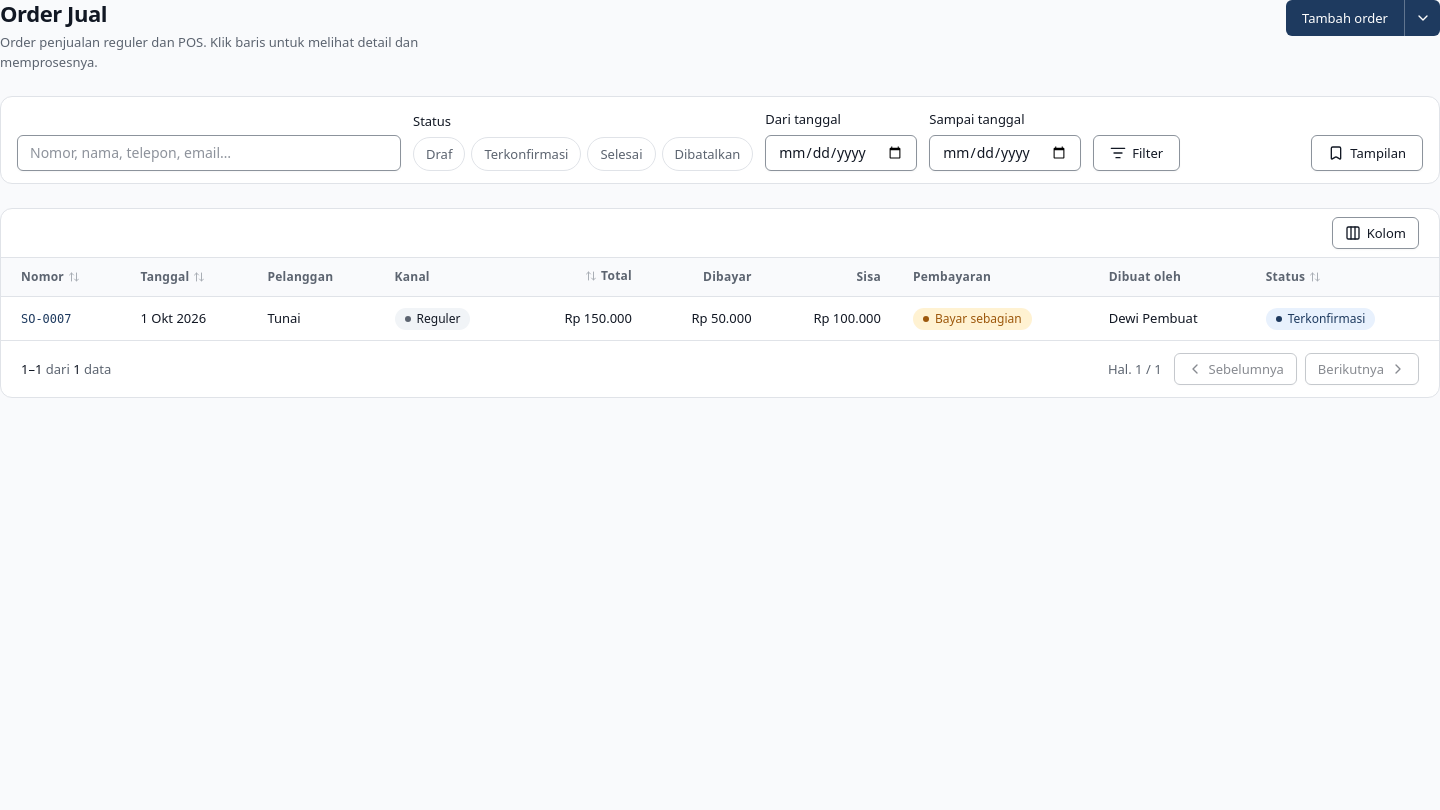
daftar order jual — SJ Langsung (ADR-0022 W-05) › tombol Tambah order bercabang: Order biasa / Dari surat jalan membuka pemilih
The width and height of the screenshot is (1440, 810).
Check: the text "SO-0007" is shown, box [21, 308, 71, 328]
Click the button named "Pilihan tambah order" at (1422, 18), box [1404, 0, 1439, 36]
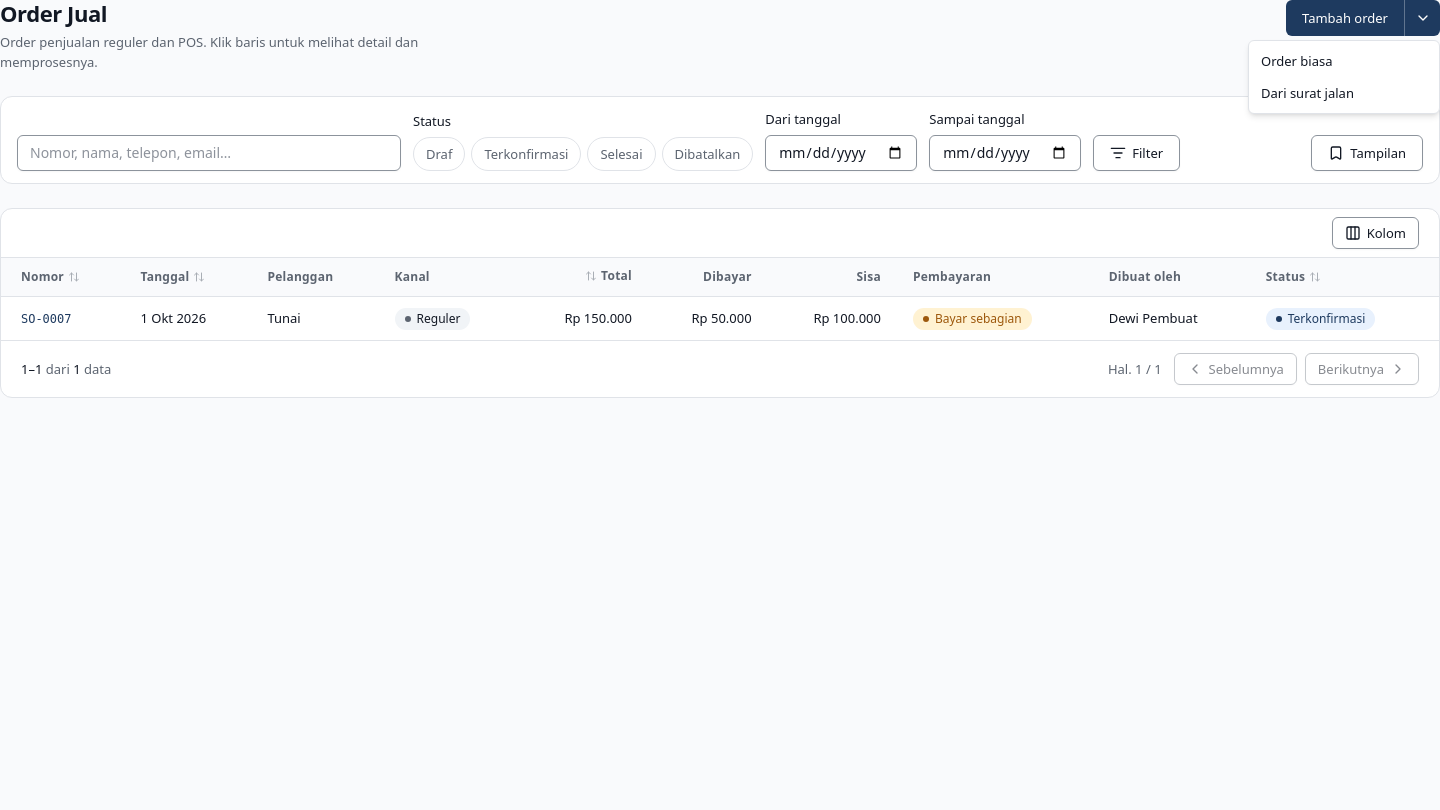
Check: the menu item "Order biasa" is shown, box [1261, 52, 1332, 70]
Click the menu item "Dari surat jalan" at (1308, 93), box [1261, 84, 1354, 102]
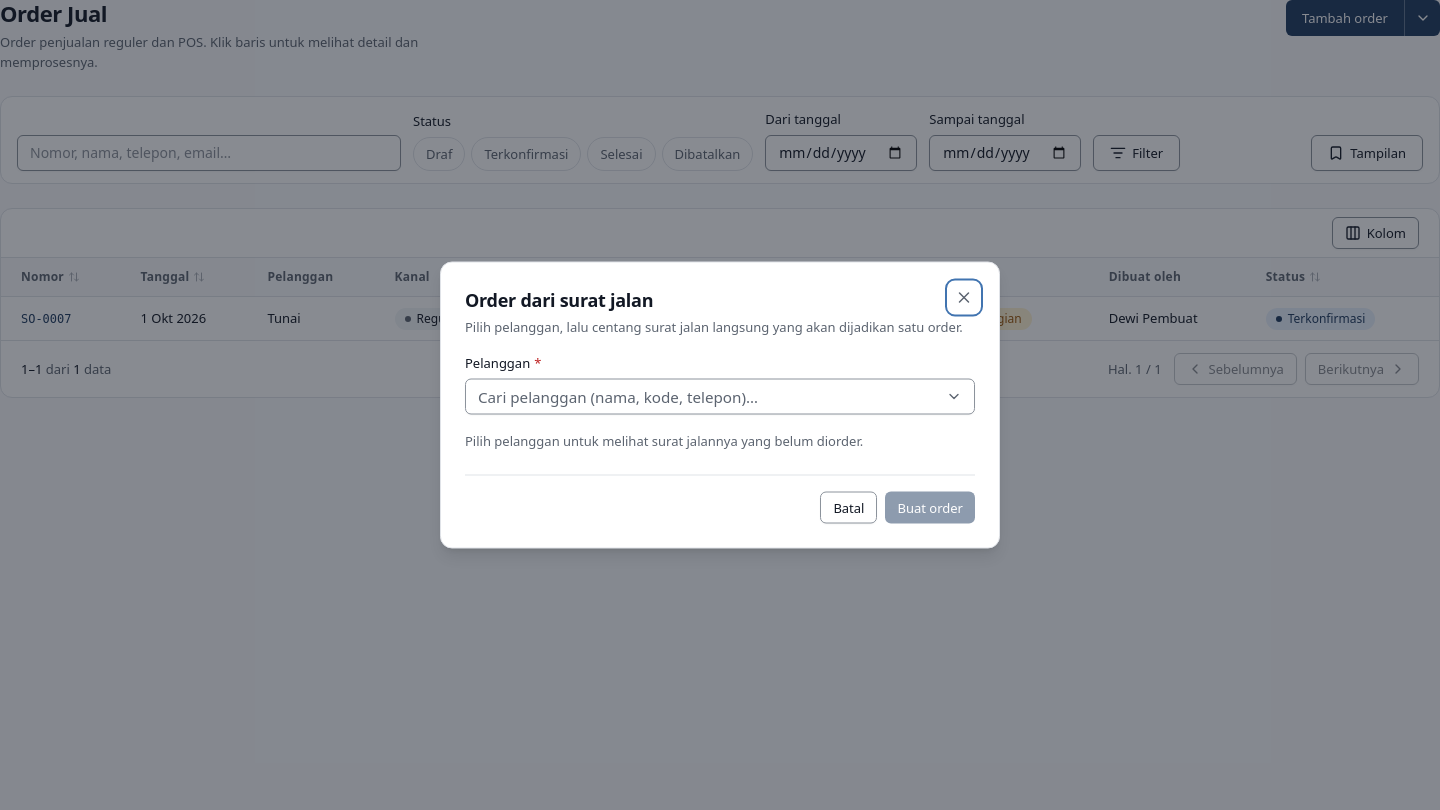
Check: the dialog "Order dari surat jalan" is shown, box [440, 262, 1000, 548]
